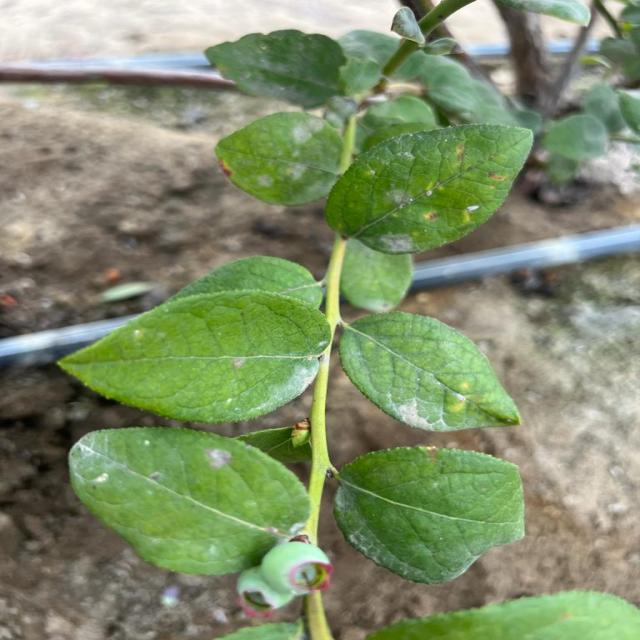Hojas con oidiosis: (371, 143, 507, 247), (352, 316, 473, 430), (240, 116, 332, 199), (254, 339, 324, 405)
